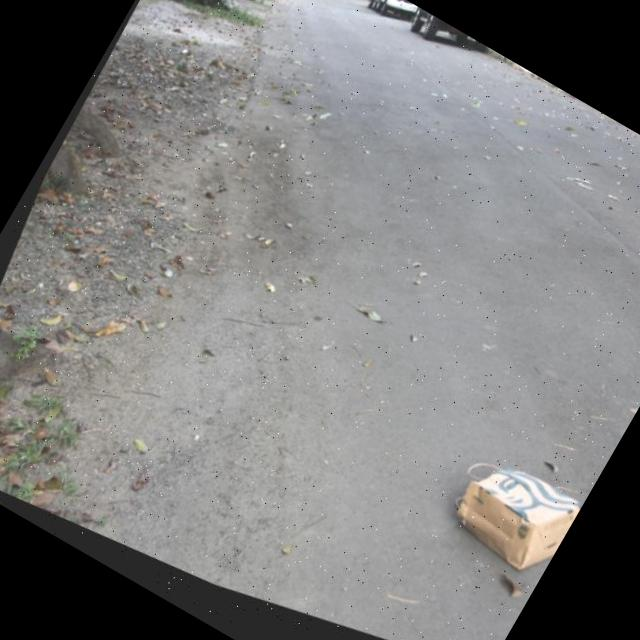KertasBekas: (439, 444, 584, 582)
